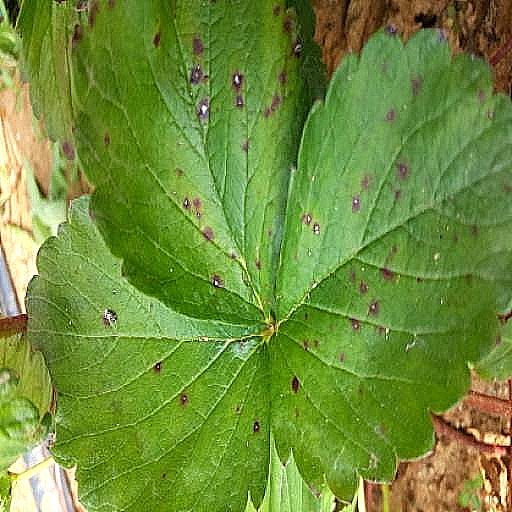Leaf Spot: (270, 7, 511, 487), (19, 0, 272, 320), (69, 185, 311, 511)
